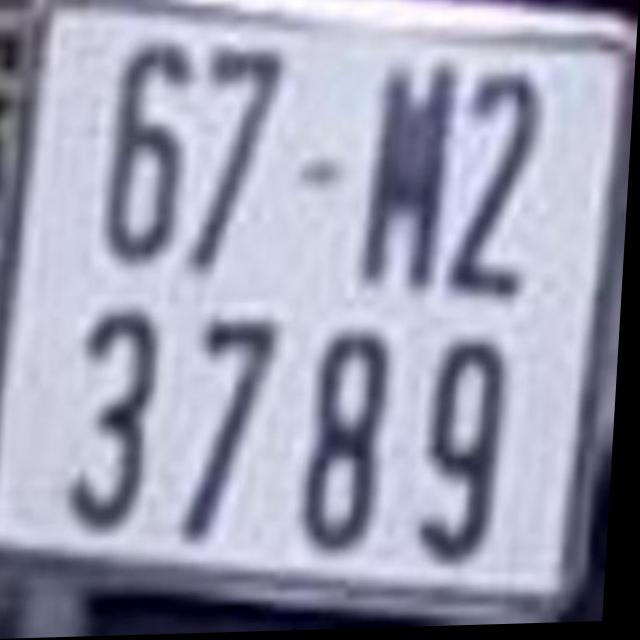2: (460, 73, 539, 305)
3: (80, 314, 156, 531)
6: (114, 41, 187, 259)
7: (191, 312, 285, 539), (197, 43, 287, 268)
8: (307, 327, 391, 549)
9: (432, 336, 508, 572)
M: (366, 61, 456, 302)
